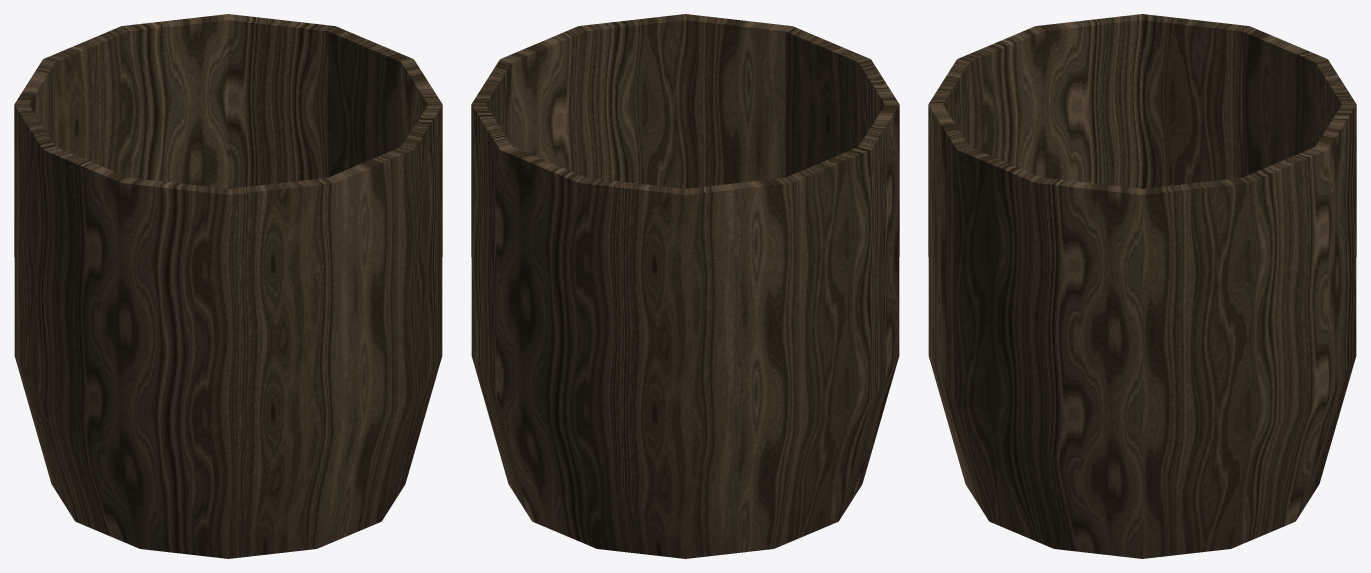
File: wood_prop2_LOD1.FBX
3 views of the same model, side by side, from view 1: azimuth 30°, elevation 25°; view 2: azimuth 150°, elevation 25°; view 3: azimuth 270°, elevation 25° (orthographic).
Visible parts, largest first — view 1: wood_prop2_LOD1; view 2: wood_prop2_LOD1; view 3: wood_prop2_LOD1.
Part boxes in pixels (bbox=[...]): wood_prop2_LOD1: bbox=[14, 14, 442, 558]; wood_prop2_LOD1: bbox=[471, 14, 899, 558]; wood_prop2_LOD1: bbox=[928, 14, 1356, 558].
Bounding box in the file's own units: 47.14 × 46.09 × 47.14.
